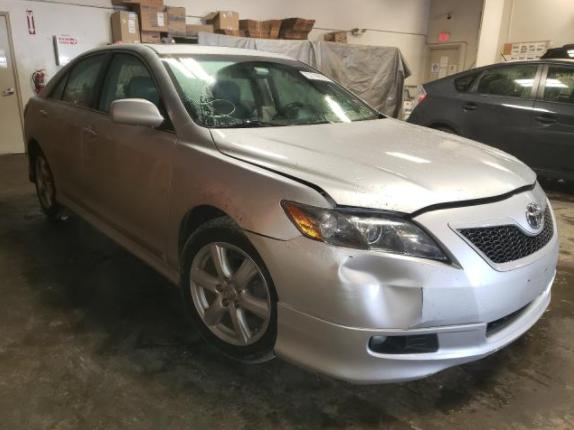Back-door: (37, 50, 111, 209)
Back-wheel: (33, 147, 69, 216)
Back-window: (49, 53, 106, 108)
Fender: (166, 121, 335, 270)
Front-bumper: (240, 180, 559, 386)
Front-door: (81, 49, 176, 261)
Front-wheel: (181, 216, 278, 363)
Front-window: (97, 52, 159, 112)
Grille: (451, 196, 554, 268)
Headlight: (280, 200, 451, 261)
Hood: (209, 117, 538, 214)
Mirror: (110, 98, 173, 130)
Quarter-panel: (22, 94, 45, 167)
Rocker-panel: (56, 190, 182, 288)
Roof: (139, 43, 297, 59)
Windshield: (157, 54, 380, 128)
